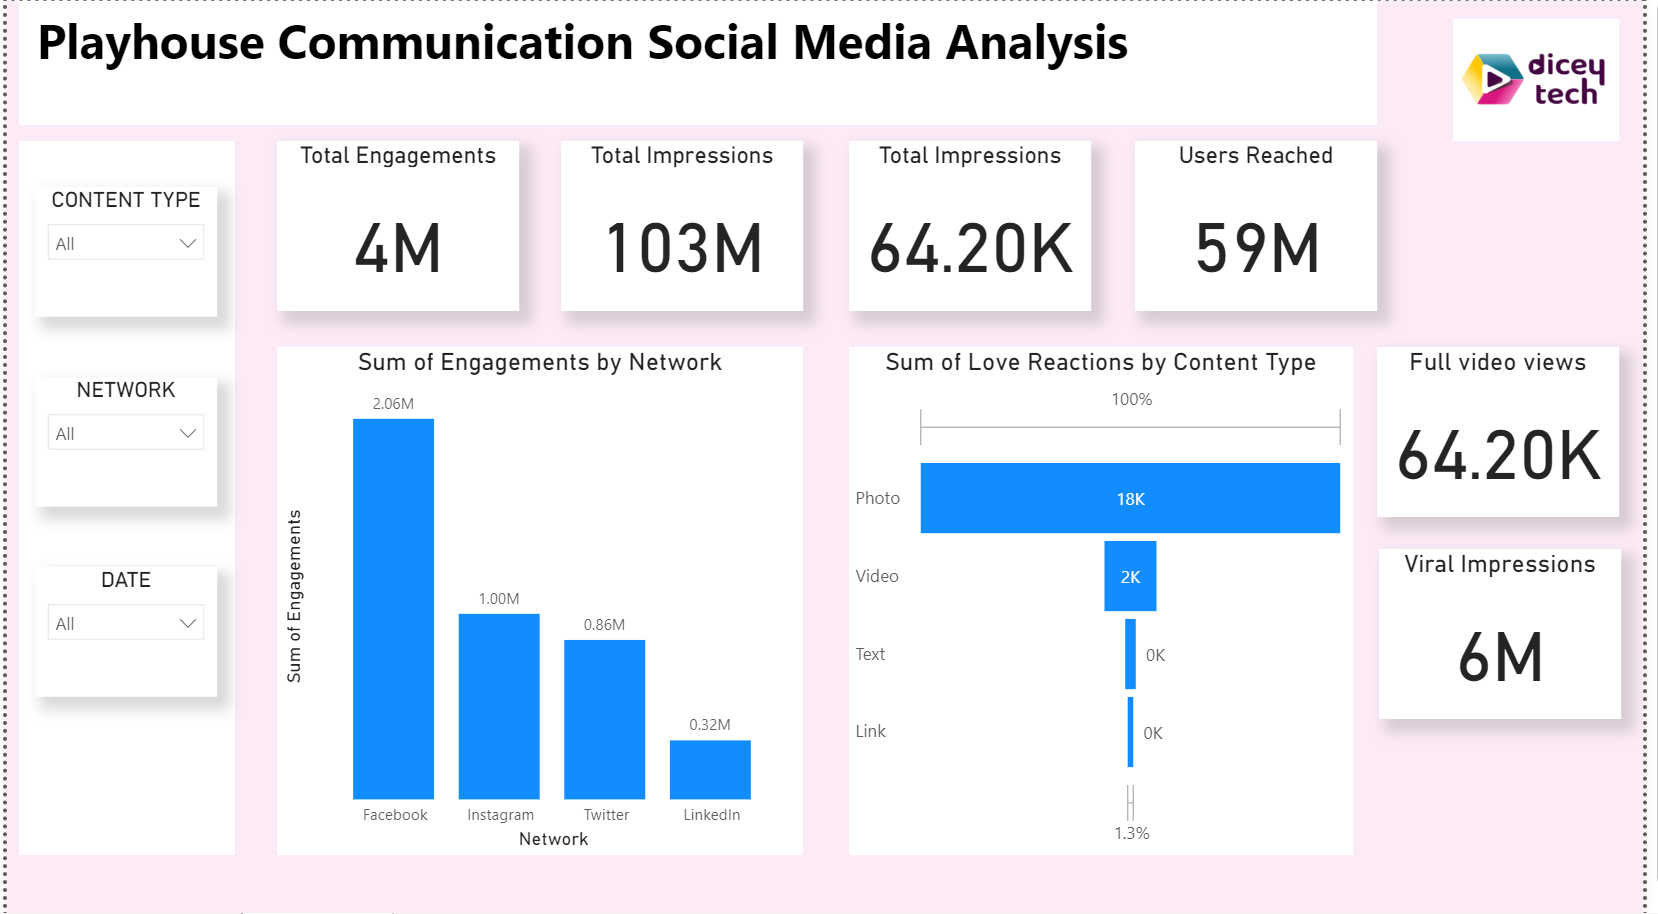

Layout of this report page (visuals, bound fields, positions):
{"tool":"powerbi","page":{"name":"Page 1","canvas":[1280,720],"ordinal":0},"visuals":[{"type":"textbox","box":[9.4,0,1062.5,97],"z":0},{"type":"shape","box":[9.4,109.5,169,558.6],"z":1000},{"type":"card","title":"Total Engagements","fields":{"Values":["Sum(joined_data_numerical.Engagements)"]},"box":[211.2,109.5,189.3,133],"z":2000},{"type":"card","title":"Total Impressions","fields":{"Values":["Sum(joined_data_numerical.Impressions)"]},"box":[433.4,109.5,189.3,133],"z":3000},{"type":"card","title":"Total Impressions","fields":{"Values":["Sum(joined_data_numerical.Full Video Views)"]},"box":[658.8,109.5,189.3,133],"z":4000},{"type":"card","title":"Users Reached","fields":{"Values":["Sum(joined_data_numerical.Reach)"]},"box":[882.5,109.5,189.3,133],"z":5000},{"type":"slicer","title":"CONTENT TYPE","fields":{"Values":["joined_data_text.Content Type"]},"box":[21.9,145.5,142.4,101.7],"z":6000},{"type":"slicer","title":"NETWORK","fields":{"Values":["joined_data_text.Network"]},"box":[21.9,294.2,142.4,101.7],"z":7000},{"type":"slicer","title":"DATE","fields":{"Values":["joined_data_text.Date"]},"box":[21.9,442.8,142.4,101.7],"z":8000},{"type":"image","box":[1131.3,14.1,129.9,95.5],"z":9000},{"type":"columnChart","fields":{"Category":["joined_data_text.Network"],"Y":["Sum(joined_data_numerical.Engagements)"]},"box":[211.2,270.7,411.5,397.5],"z":10000},{"type":"funnel","fields":{"Category":["joined_data_text.Content Type"],"Y":["Sum(joined_data_numerical.Love Reactions)"]},"box":[658.8,270.7,394.3,397.5],"z":10001},{"type":"card","title":"Full video views","fields":{"Values":["Sum(joined_data_numerical.Full Video Views)"]},"box":[1071.9,270.7,189.3,133],"z":10002},{"type":"card","title":"Viral Impressions","fields":{"Values":["Sum(joined_data_numerical.Viral Impressions)"]},"box":[1073.4,428.8,189.3,133],"z":10003}]}

Visuals, with their boxes in screenshot pixels (x1, y1, x2, y2), scaled from the page's 1280x720 canvas onto the 1658x914 screenshot:
textbox: 12, 0, 1388, 123
shape: 12, 139, 231, 848
"Total Engagements" card: 274, 139, 519, 308
"Total Impressions" card: 561, 139, 807, 308
"Total Impressions" card: 853, 139, 1099, 308
"Users Reached" card: 1143, 139, 1388, 308
"CONTENT TYPE" slicer: 28, 185, 213, 314
"NETWORK" slicer: 28, 373, 213, 503
"DATE" slicer: 28, 562, 213, 691
image: 1465, 18, 1634, 139
columnChart - joined_data_text.Network x Sum(joined_data_numerical.Engagements): 274, 344, 807, 848
funnel - joined_data_text.Content Type x Sum(joined_data_numerical.Love Reactions): 853, 344, 1364, 848
"Full video views" card: 1388, 344, 1634, 512
"Viral Impressions" card: 1390, 544, 1636, 713
